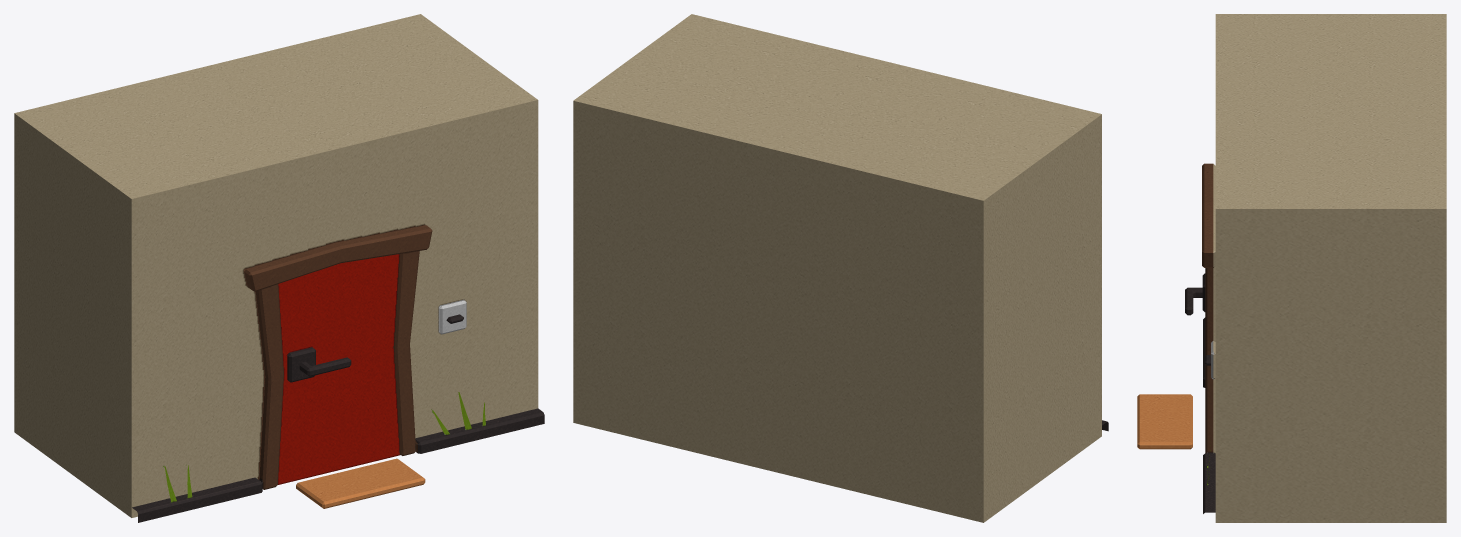
The model's file is door1_LOD0.fbx.
The picture shows the model from 3 angles, left to right: view 1: azimuth 30°, elevation 25°; view 2: azimuth 150°, elevation 25°; view 3: azimuth 270°, elevation 25°; orthographic projection. The views are drawn at different scales.
Parts seen in each view (by area): view 1: door1_LOD0; view 2: door1_LOD0; view 3: door1_LOD0.
Boxes of the visible parts, x1=… form: door1_LOD0: x1=14, y1=14, x2=544, y2=522; door1_LOD0: x1=573, y1=14, x2=1108, y2=522; door1_LOD0: x1=1137, y1=14, x2=1446, y2=522.
Bounding box in the file's own units: 400 × 300 × 268.
